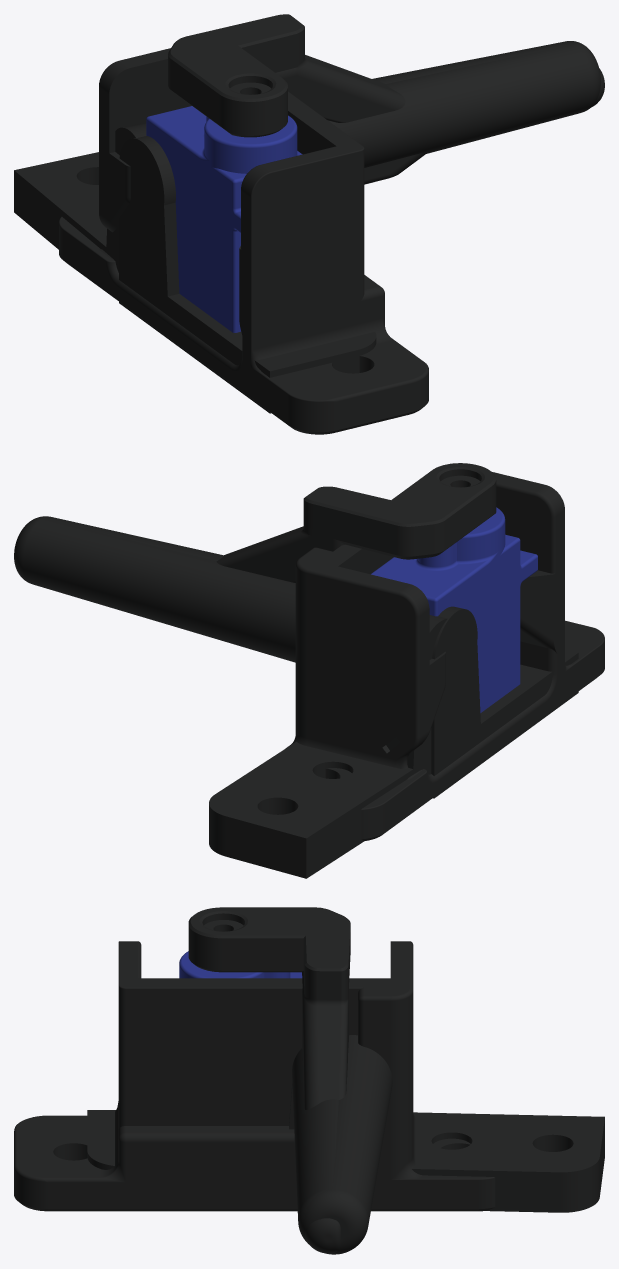
The model's file is filament cutter depressor.glb.
3 renders of one model, top to bottom at view 1: azimuth 30°, elevation 25°; view 2: azimuth 150°, elevation 25°; view 3: azimuth 270°, elevation 25°, orthographic. The views are drawn at different scales.
Bounding box in the file's own units: 0.0671 × 0.037 × 0.0782.
